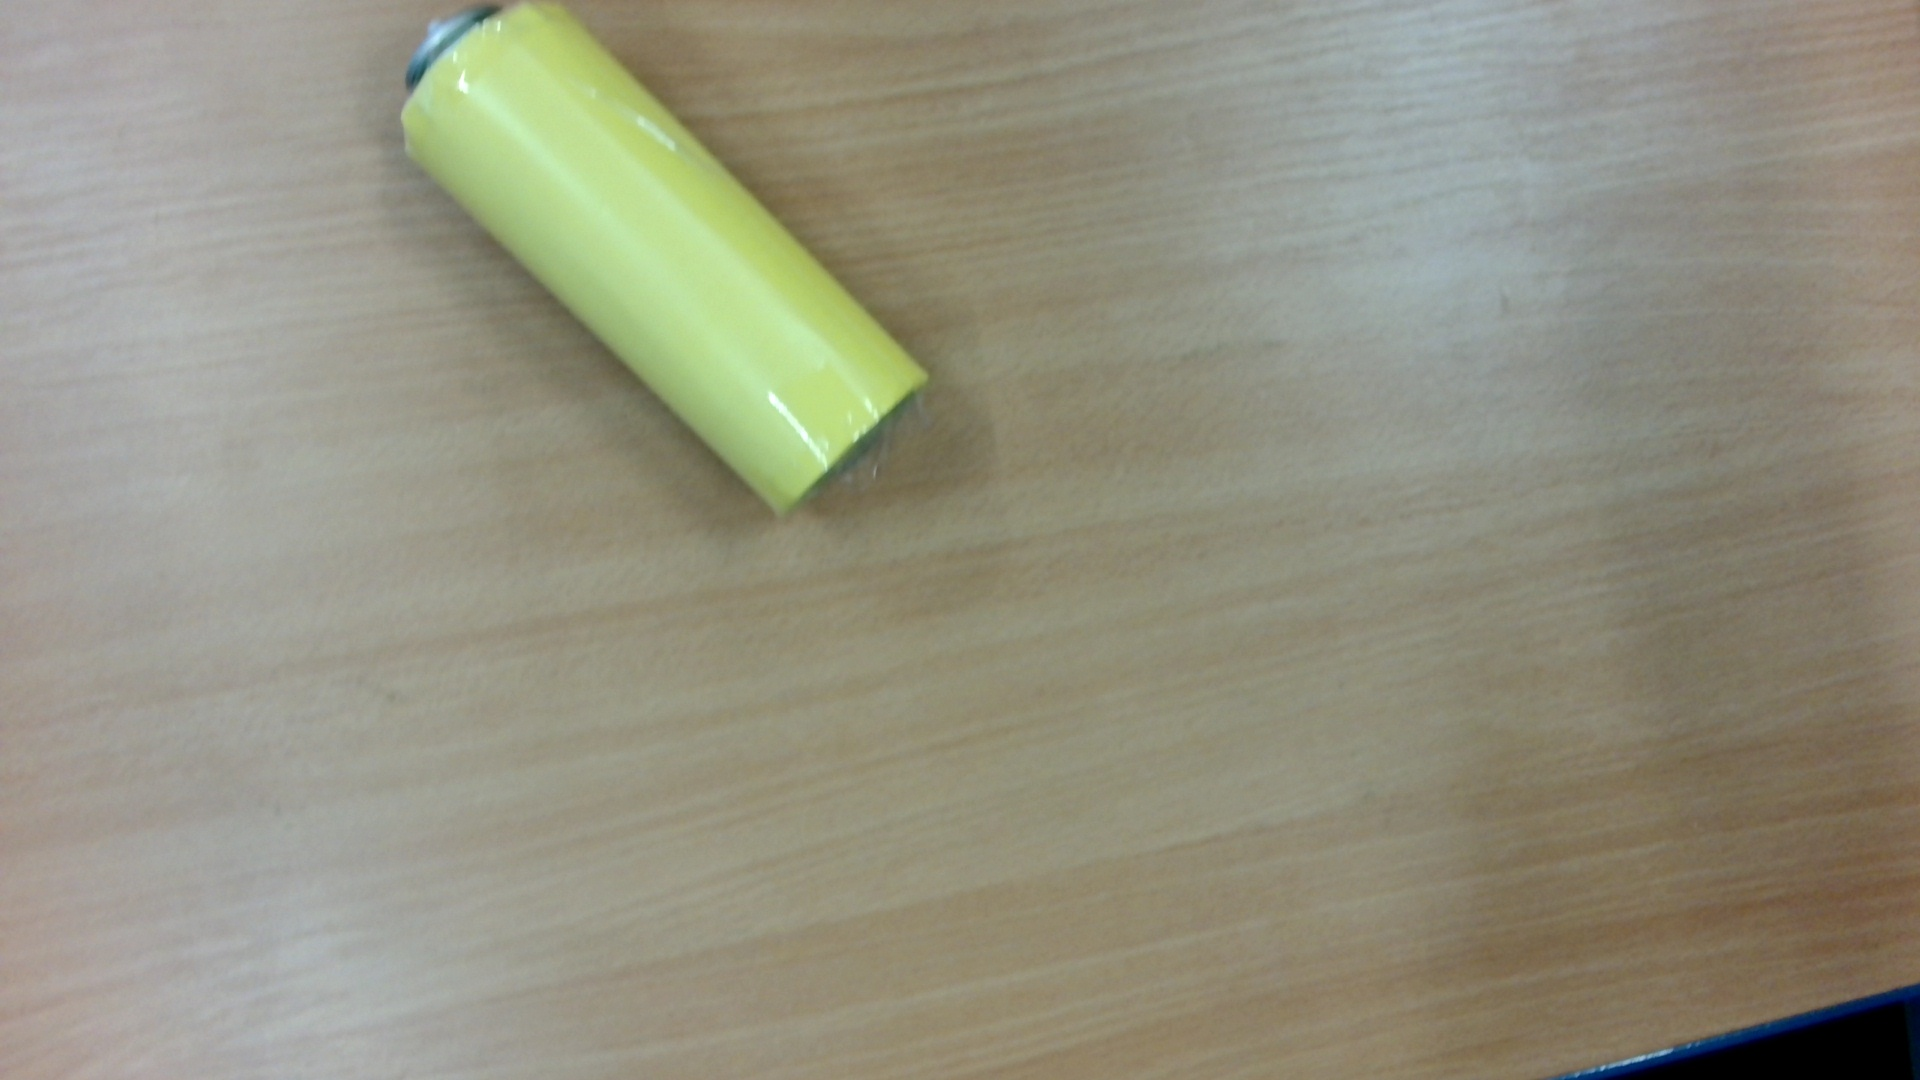Cylinder: (372, 1, 949, 531)
